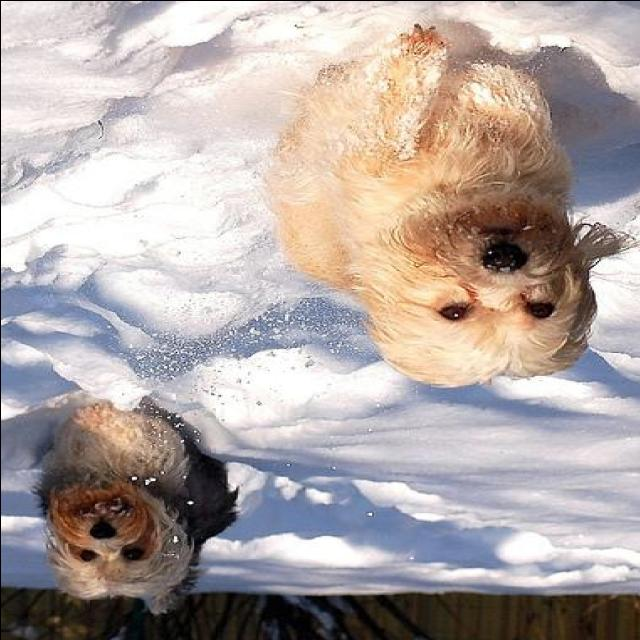dandie_dinmont: (258, 19, 636, 384), (25, 396, 242, 614)
